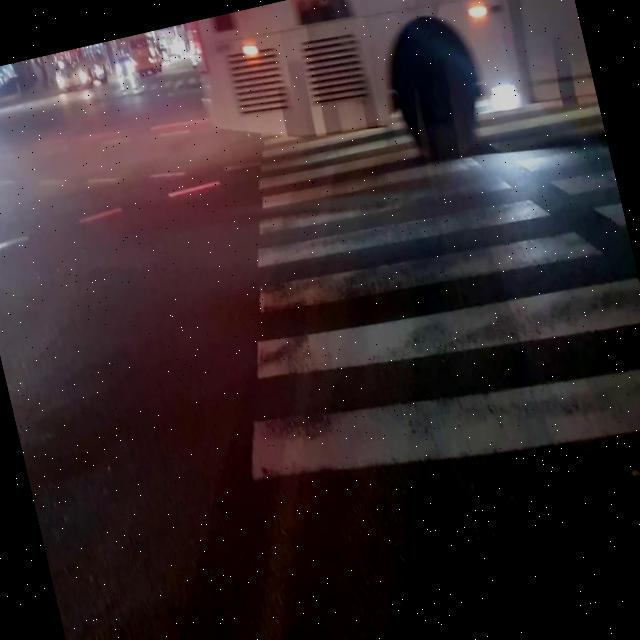crosswalk: (251, 103, 640, 520)
